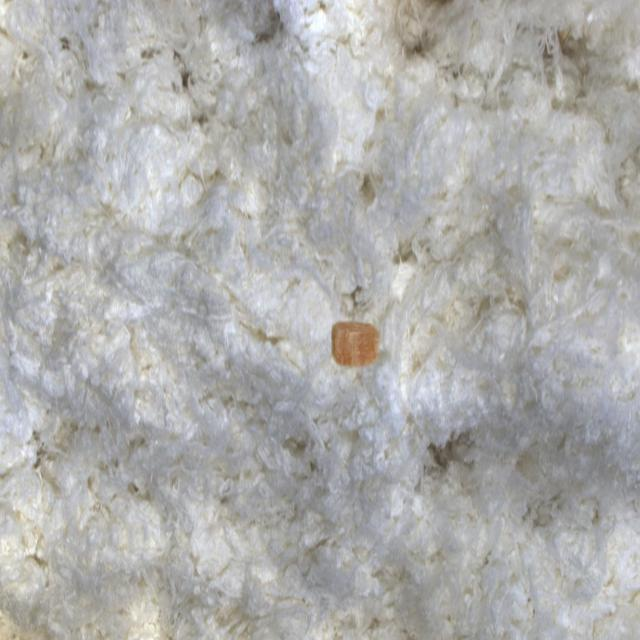dust: (295, 274, 410, 400)
